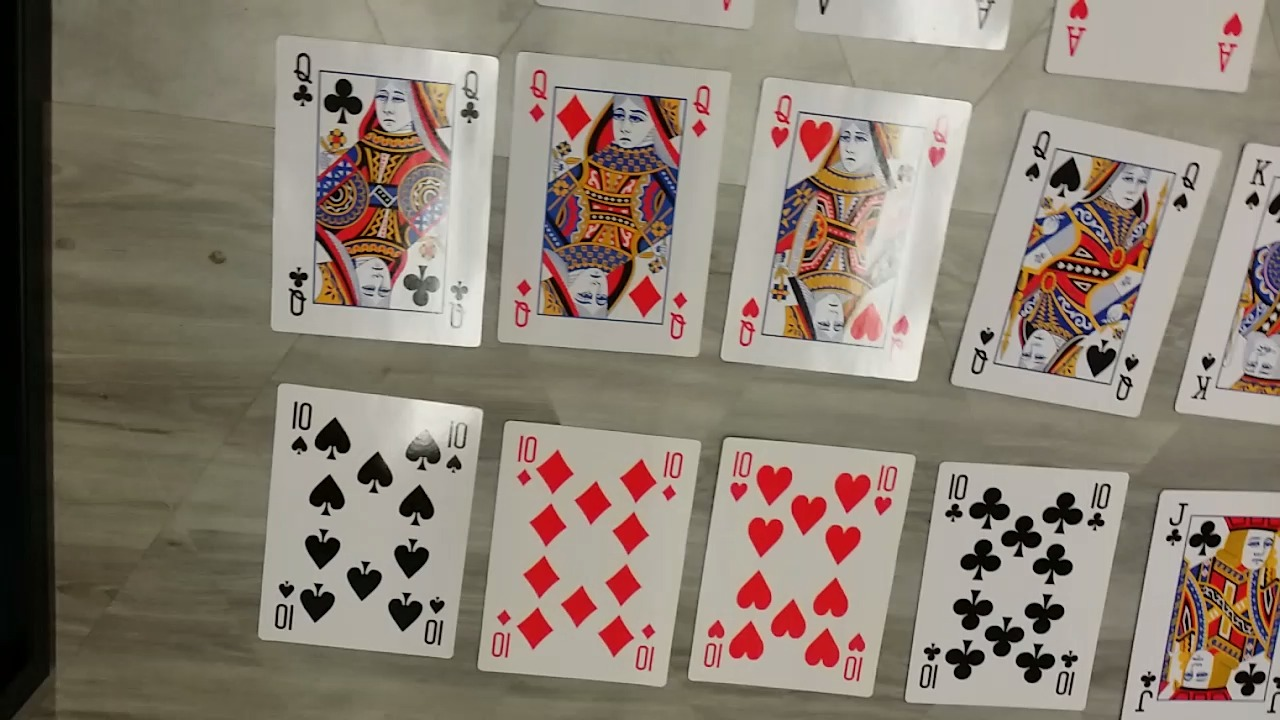10_club: (906, 460, 1133, 709)
10_diamond: (476, 420, 701, 687)
10_heart: (688, 436, 915, 702)
10_spade: (253, 380, 484, 660)
jack_club: (1122, 489, 1280, 720)
queen_club: (266, 34, 499, 347)
queen_diamond: (495, 46, 736, 361)
queen_heart: (719, 73, 977, 384)
queen_spade: (951, 108, 1226, 420)
